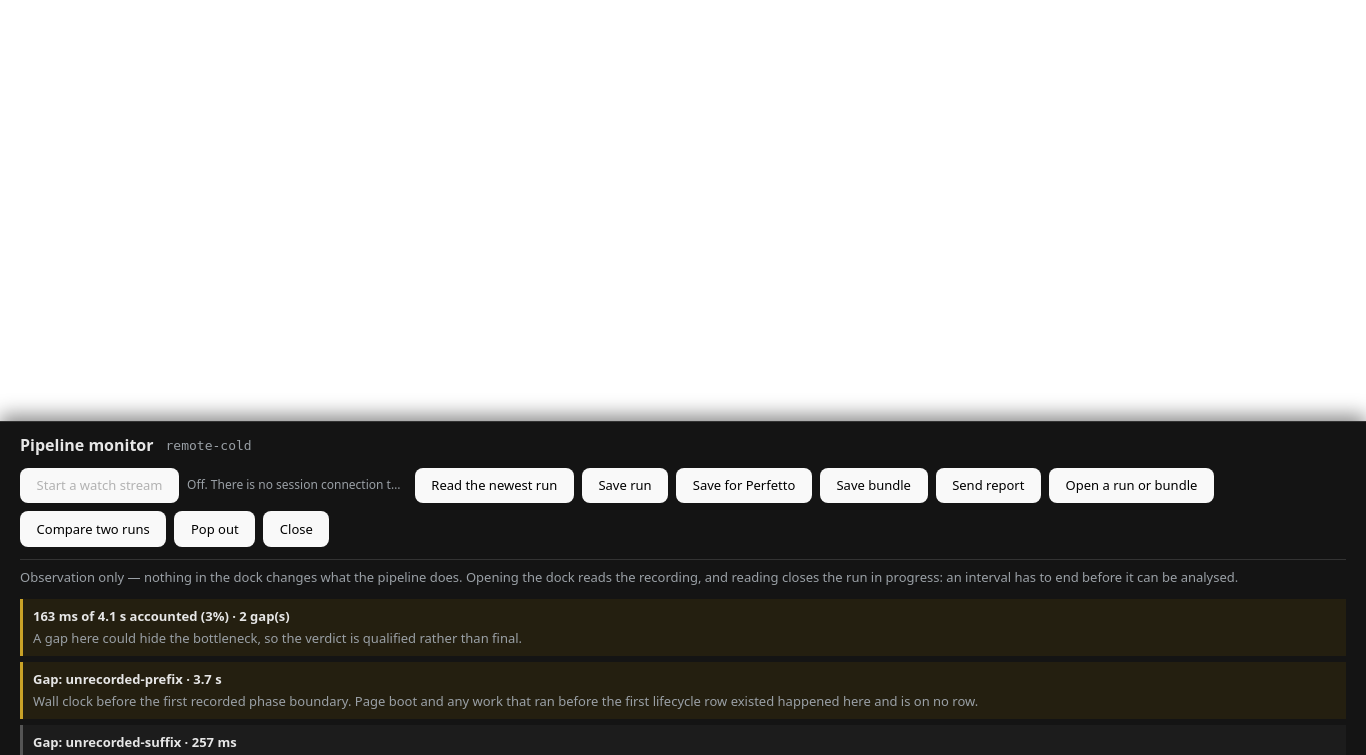
Test: saving a run › shows why a report could not be sent, rather than looking sent
Step 1. Click the button with test id "monitor-send-report" → (988,485), box [936,468,1041,503]
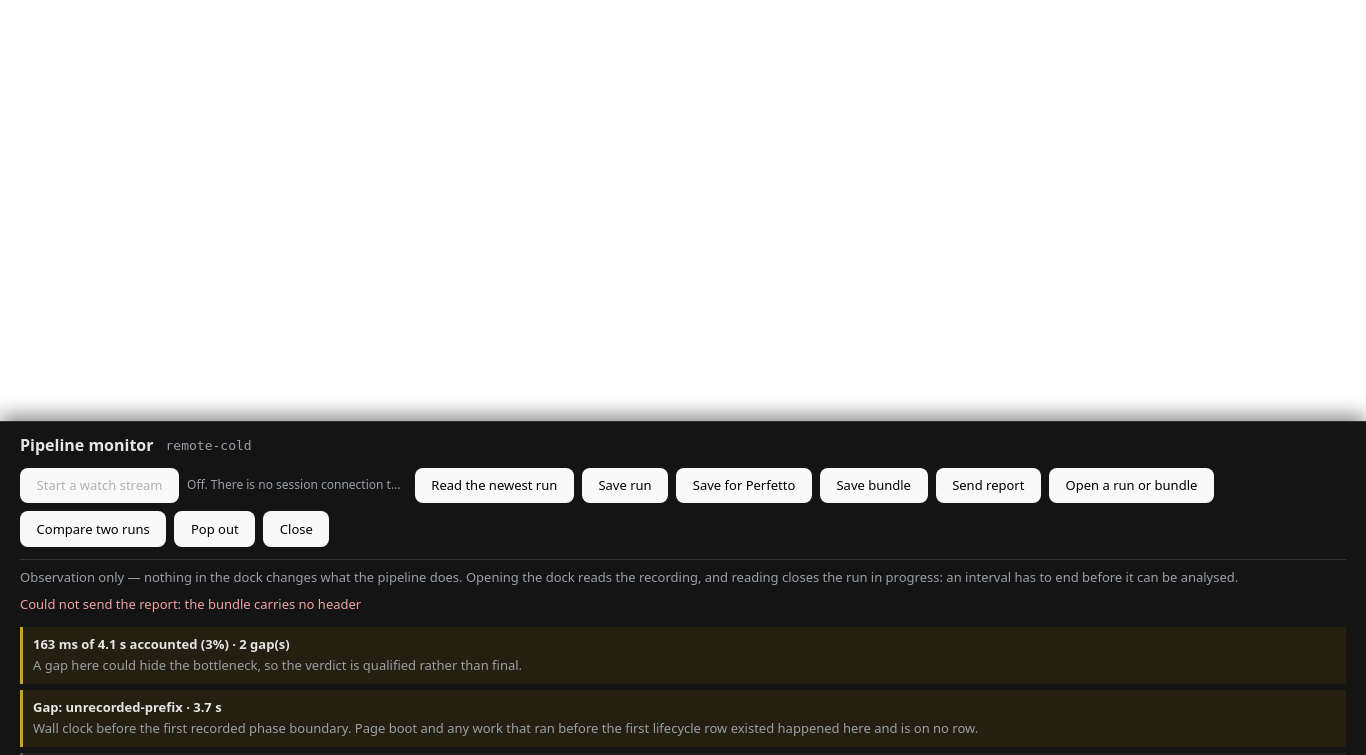
Check: the text with test id "monitor-send-failed" shows "the bundle carries no header", box [184,595,361,613]
